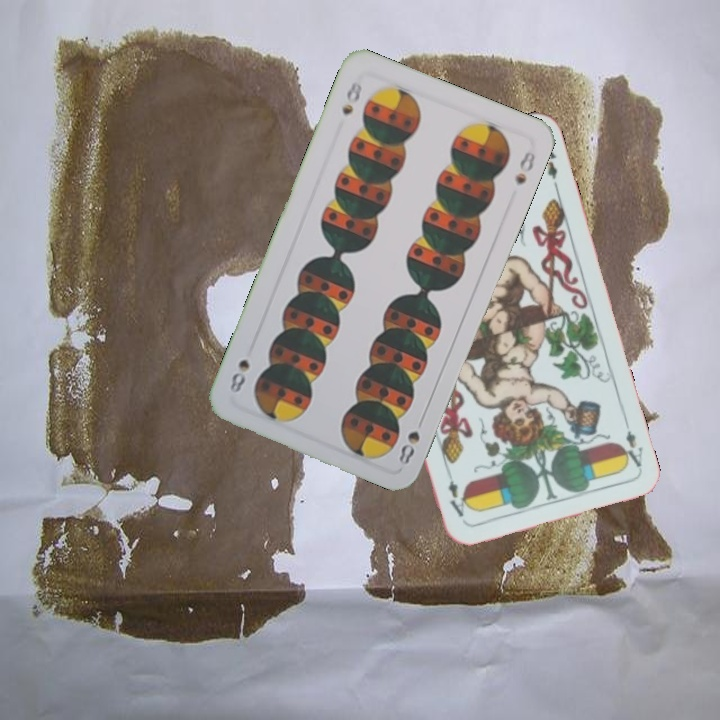EA: (615, 413, 646, 470)
S8: (394, 426, 423, 467), (337, 77, 365, 118)
